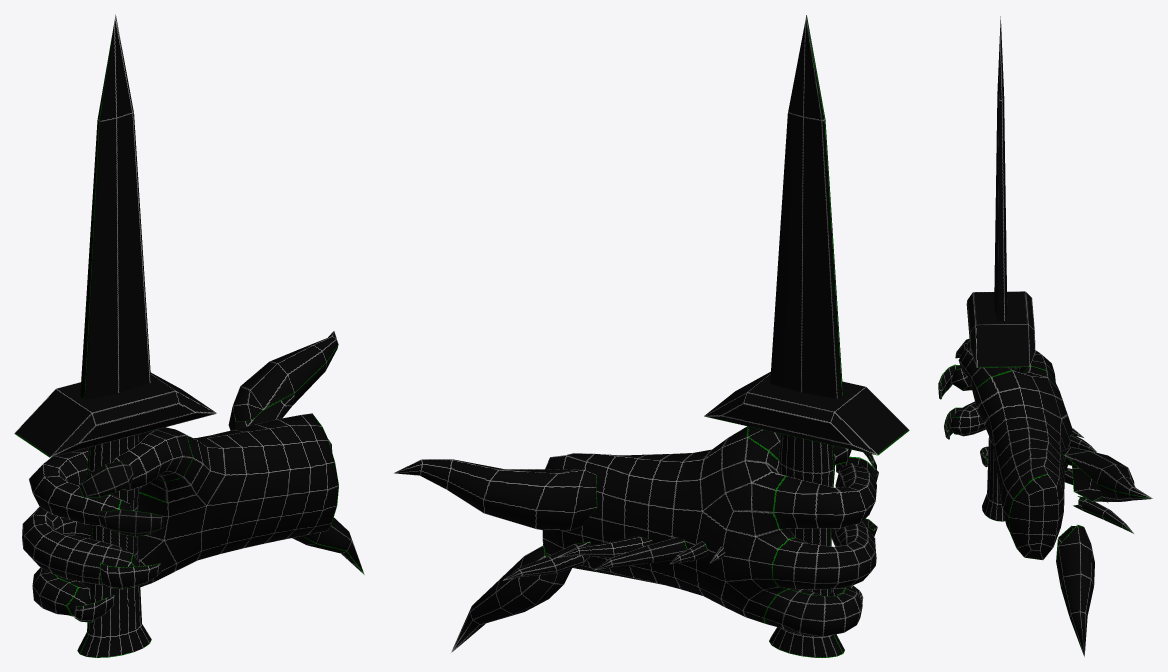
File: Kwak Doo-pal-Right.fbx
The picture shows the model from 3 angles, left to right: view 1: azimuth 30°, elevation 25°; view 2: azimuth 150°, elevation 25°; view 3: azimuth 270°, elevation 25°; orthographic projection. The views are drawn at different scales.
Visible parts, largest first — view 1: MAW135_018; view 2: MAW135_018; view 3: MAW135_018.
Part boxes in pixels (x1,y1,x2,y2): MAW135_018: (14,14,364,657); MAW135_018: (393,15,909,657); MAW135_018: (938,16,1152,657).
Bounding box in the file's own units: 29.44 × 47.14 × 17.4.
